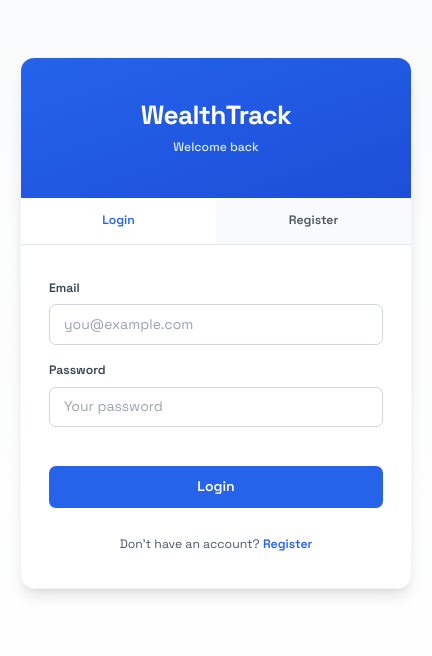
Auth.vue › switches to register mode when register button clicked
The width and height of the screenshot is (432, 656).
Step 1. Click the 1st button "Register" → (314, 221), box [216,198,411,244]
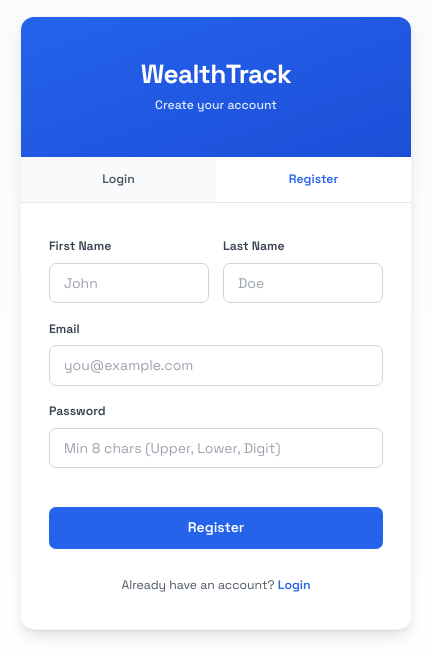
Now the text "Create your account" is shown, box [155,97,277,113]
